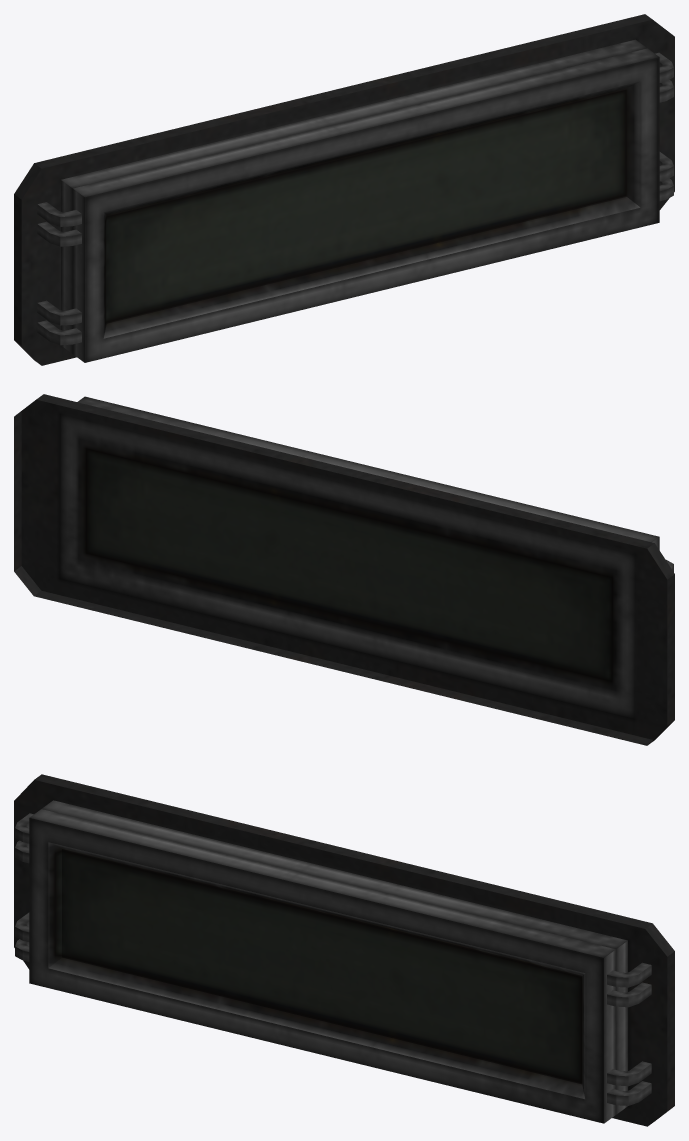
Rendered from elevator_screen_1.obj.
3 views of the same model, one above another, from view 1: azimuth 30°, elevation 25°; view 2: azimuth 150°, elevation 25°; view 3: azimuth 330°, elevation 25° (orthographic).
Parts seen in each view (by area): view 1: elevator_screen_1; view 2: elevator_screen_1; view 3: elevator_screen_1.
Part boxes in pixels (left/top/right/bottom): elevator_screen_1: left=14, top=14, right=674, bottom=365; elevator_screen_1: left=14, top=394, right=674, bottom=745; elevator_screen_1: left=14, top=774, right=674, bottom=1126.
Bounding box in the file's own units: 0.6935 × 0.2 × 0.058.
